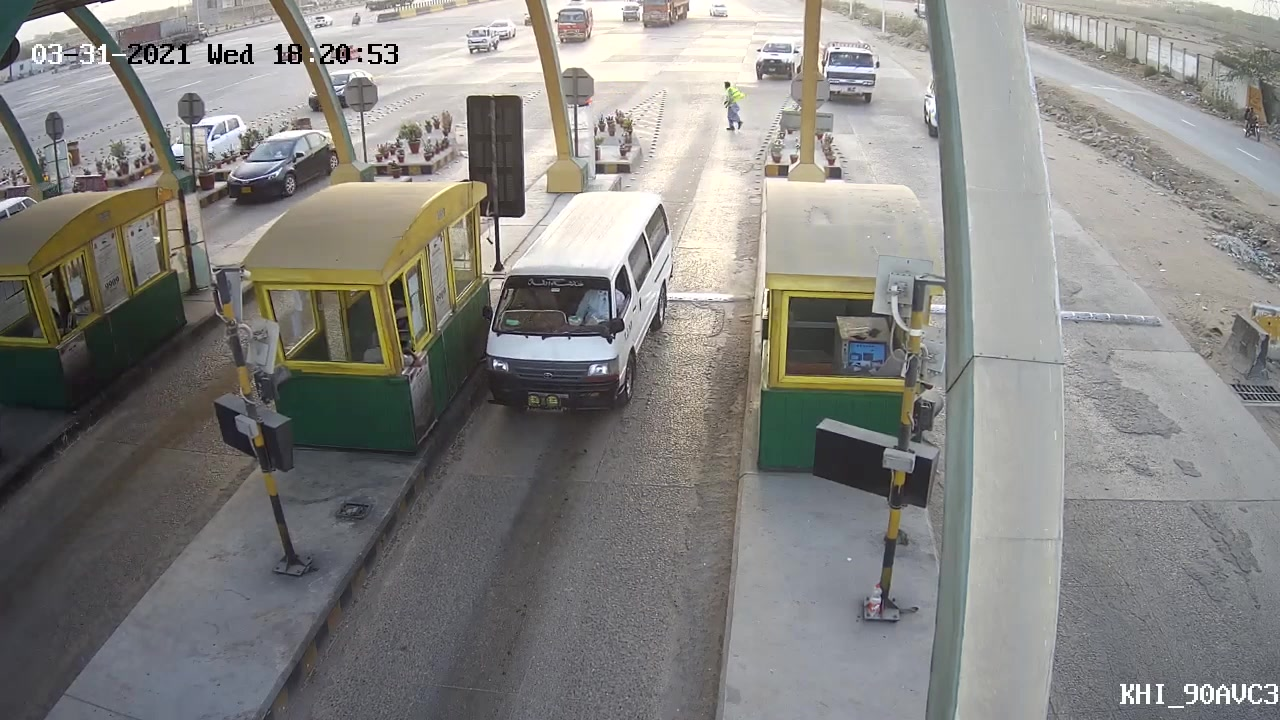F2: (472, 186, 682, 424)
